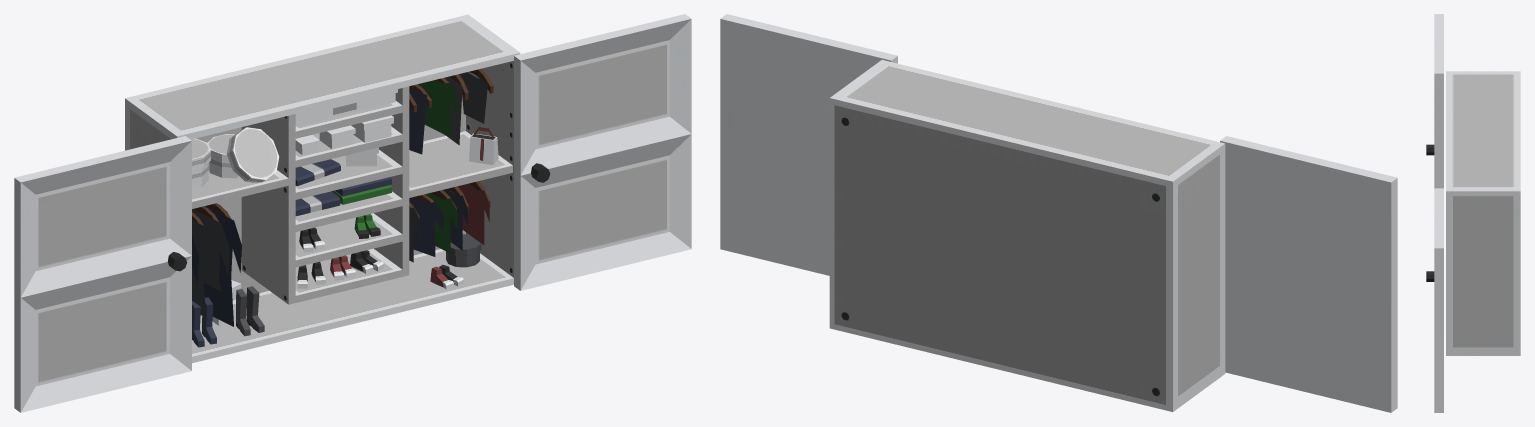
Rendered from open-wardrobe-closet.glb.
3 renders of one model, left to right at view 1: azimuth 30°, elevation 25°; view 2: azimuth 150°, elevation 25°; view 3: azimuth 270°, elevation 25°, orthographic. The views are drawn at different scales.
Visible parts, largest first — view 1: Closet; view 2: Closet; view 3: Closet.
Boxes of the visible parts, x1,y1,x2,y2 form: Closet: [14, 14, 691, 412]; Closet: [720, 14, 1397, 412]; Closet: [1426, 14, 1520, 412].
Size of the model in its own units: 1090 by 358 by 186.
1 material, 1 textured.
